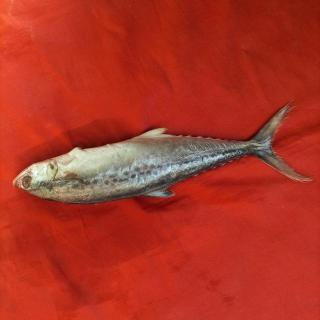Ikan: (11, 93, 320, 219)
